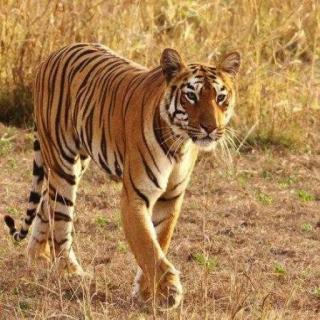Tiger: (2, 38, 242, 310)
